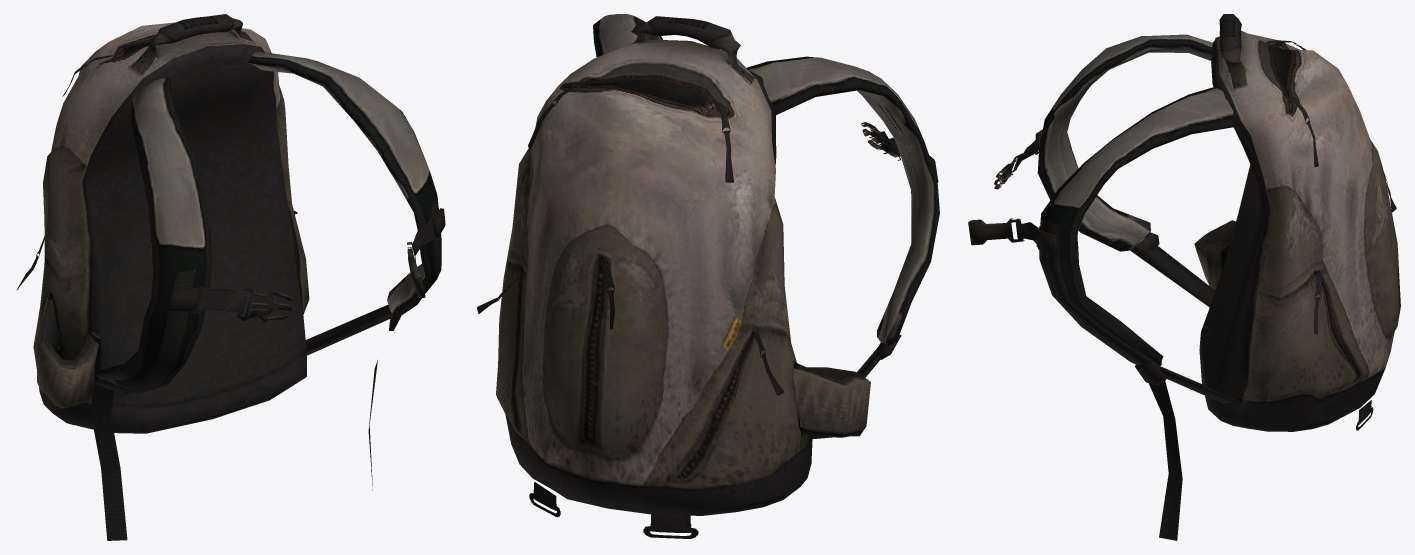
Rendered from Backpack.FBX.
3 renders of one model, left to right at view 1: azimuth 30°, elevation 25°; view 2: azimuth 150°, elevation 25°; view 3: azimuth 270°, elevation 25°, orthographic. The views are drawn at different scales.
Parts seen in each view (by area): view 1: default; view 2: default; view 3: default.
Part boxes in pixels (bbox=[...]): default: bbox=[17, 14, 445, 540]; default: bbox=[477, 14, 939, 538]; default: bbox=[968, 14, 1400, 540].
Bounding box in the file's own units: 56.18 × 82.91 × 72.4.
